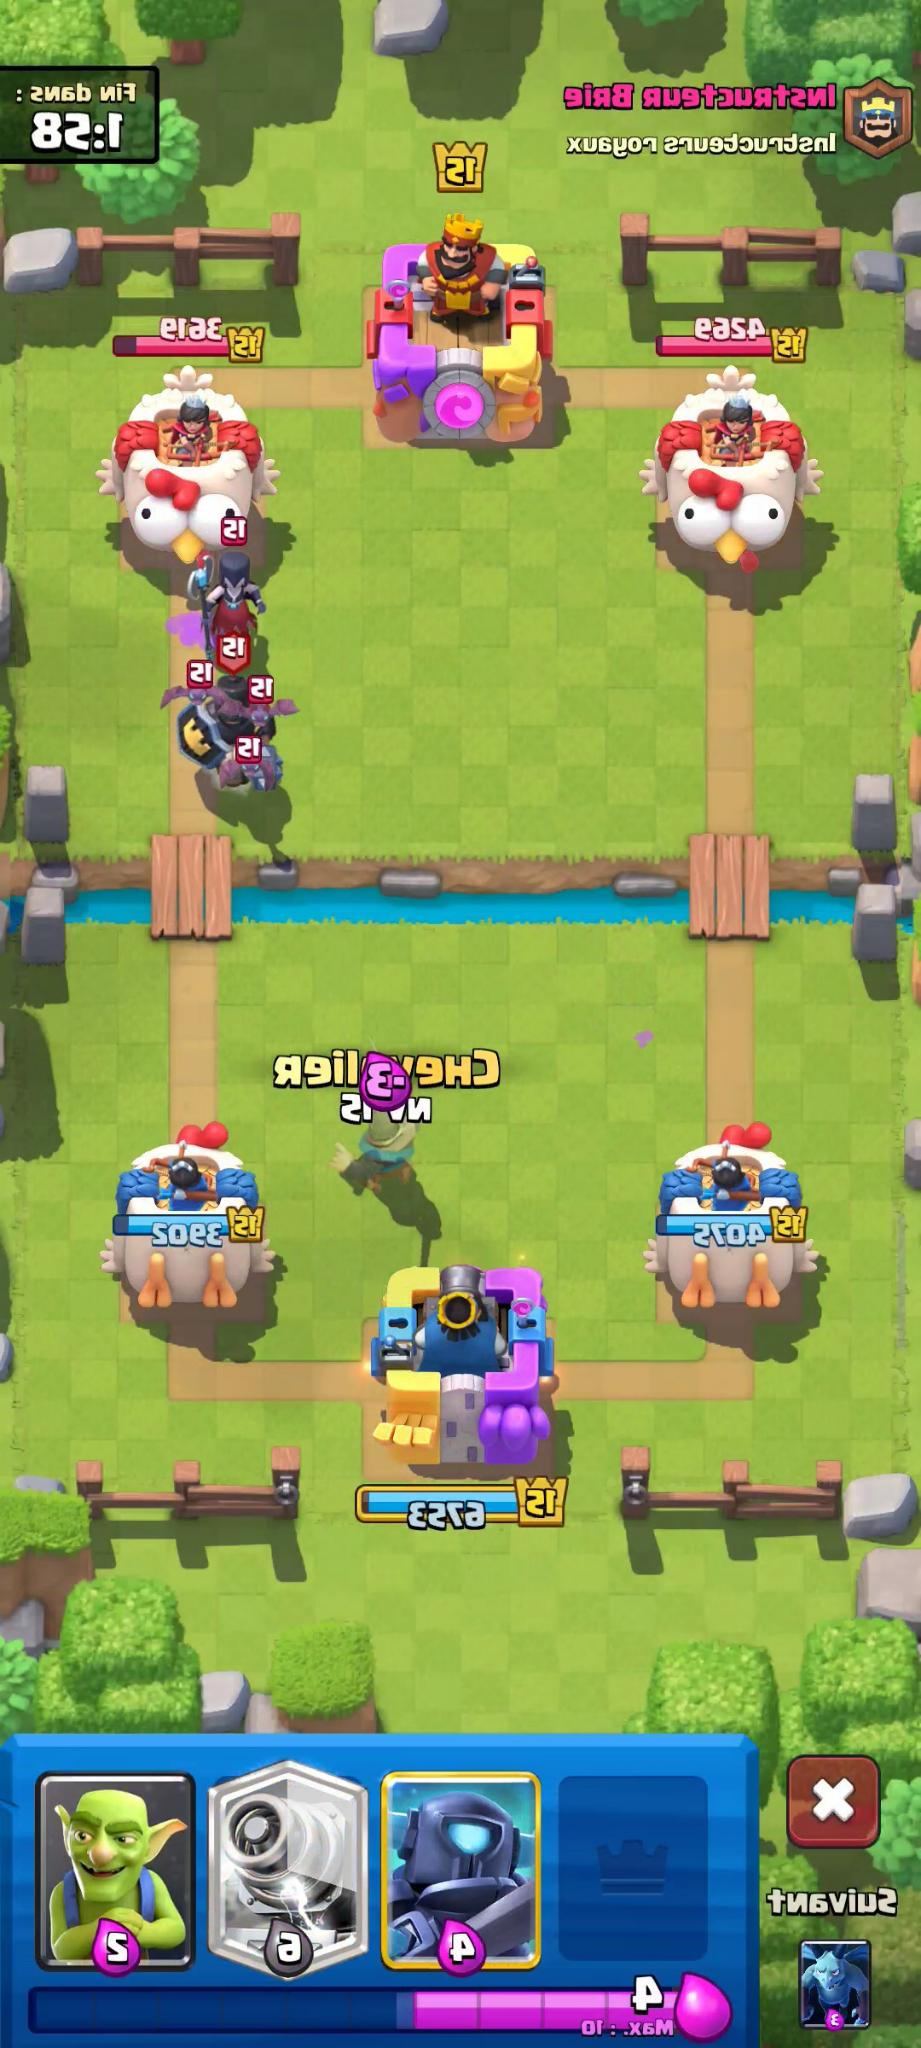bat: (212, 741, 274, 803), (140, 674, 230, 714), (226, 684, 297, 726)
chevalier: (327, 1088, 462, 1208)
